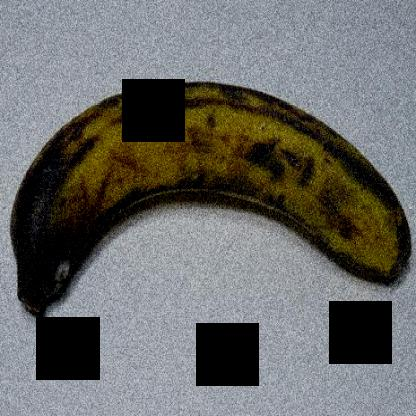overripe: (0, 60, 415, 374)
rotten: (0, 138, 119, 334)
